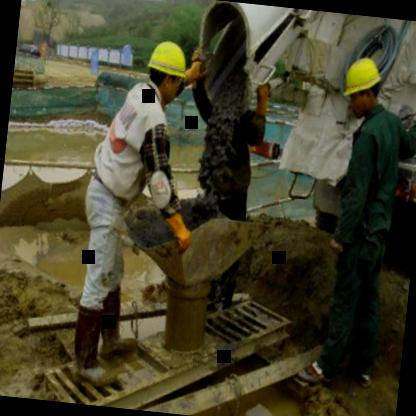helmet: (142, 35, 190, 106), (340, 50, 387, 118)
